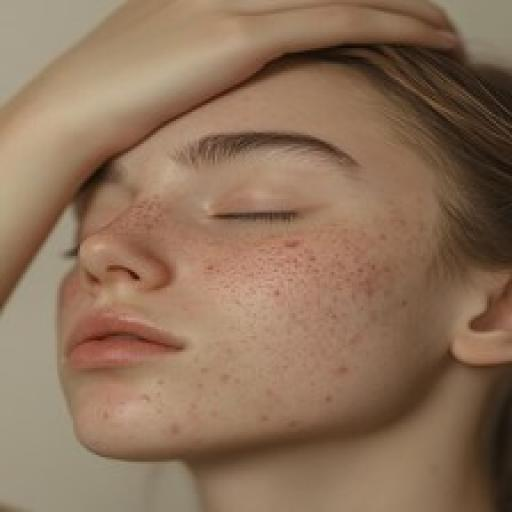human: (0, 1, 512, 503)
